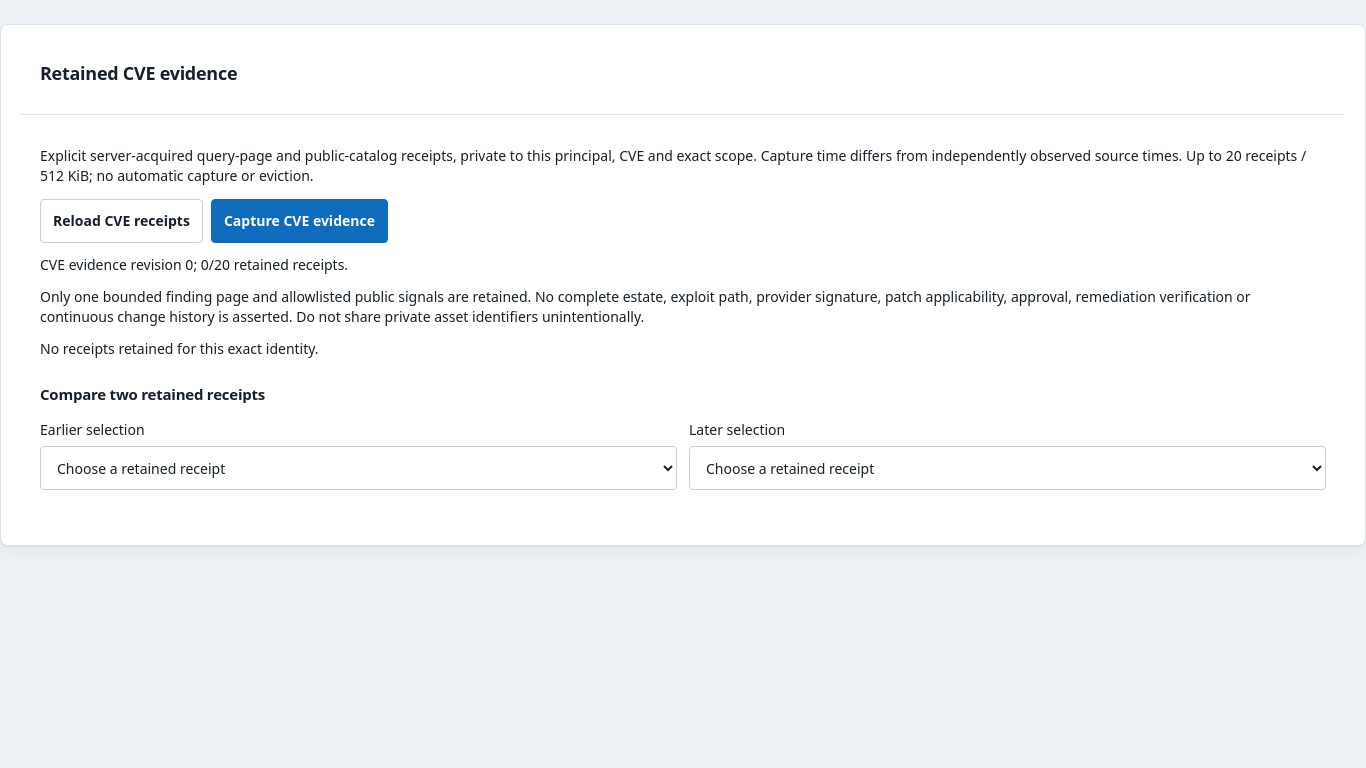
Test: Private retained CVE evidence › recovers a lost reply by retained reload, never an automatic write replay
expect the text "CVE evidence revision 0; 0/20 retained receipts." is shown: met, box [40,255,348,274]
Click the button "Capture CVE evidence".
click(299, 221)  # box [211,199,388,243]
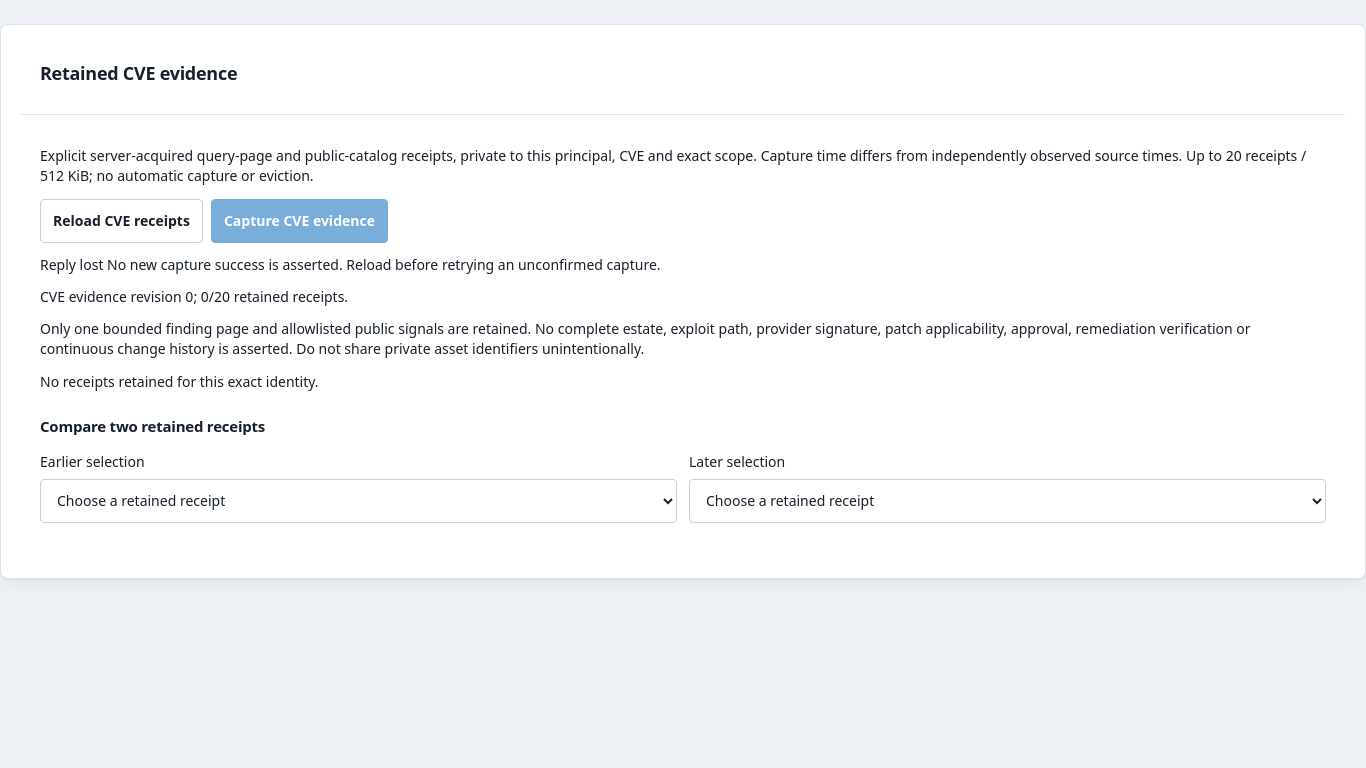
expect the message is shown: met, box [40,255,661,274]
expect the button "Capture CVE evidence" is disabled: met, box [211,199,388,243]
Click the button "Reload CVE receipts".
click(121, 221)  # box [40,199,203,243]
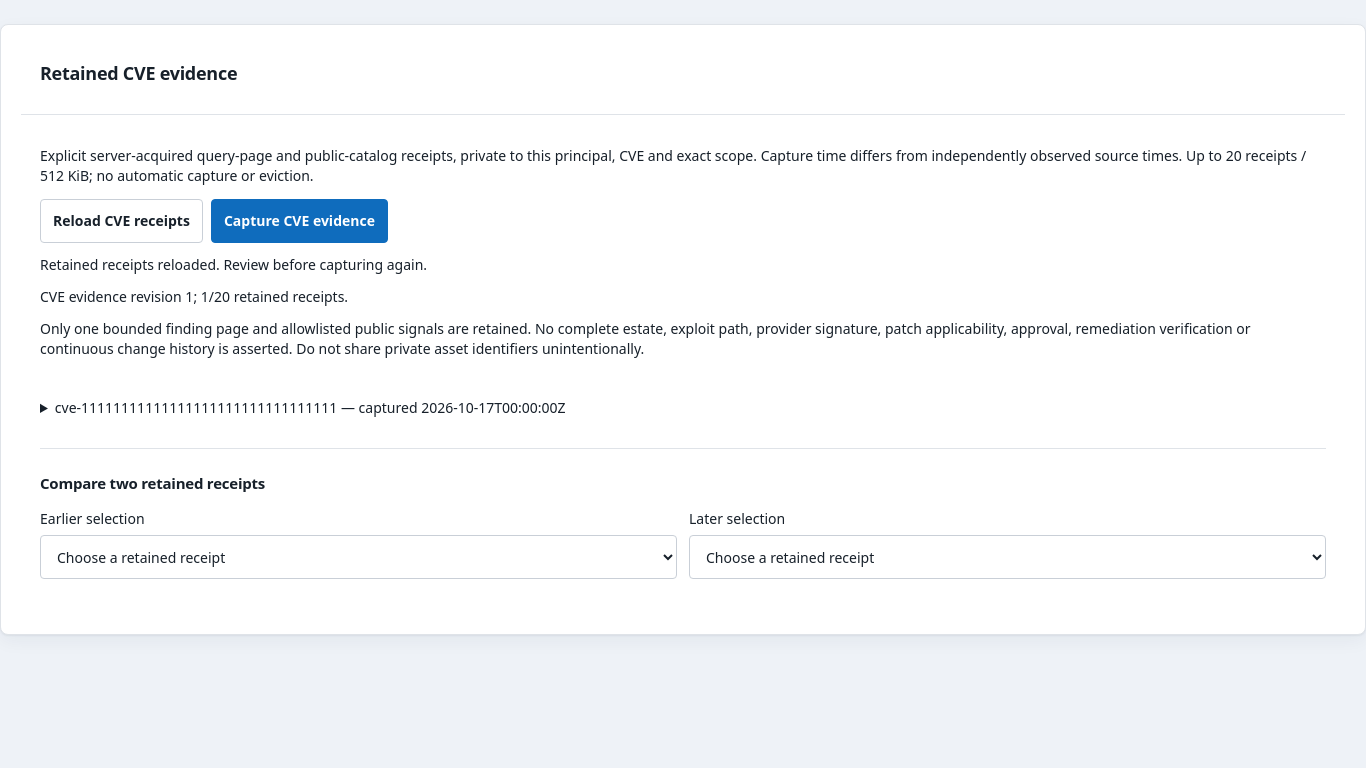
expect the text "CVE evidence revision 1; 1/20 retained receipts." is shown: met, box [40,287,348,306]
expect the button "Capture CVE evidence" is enabled: met, box [211,199,388,243]
